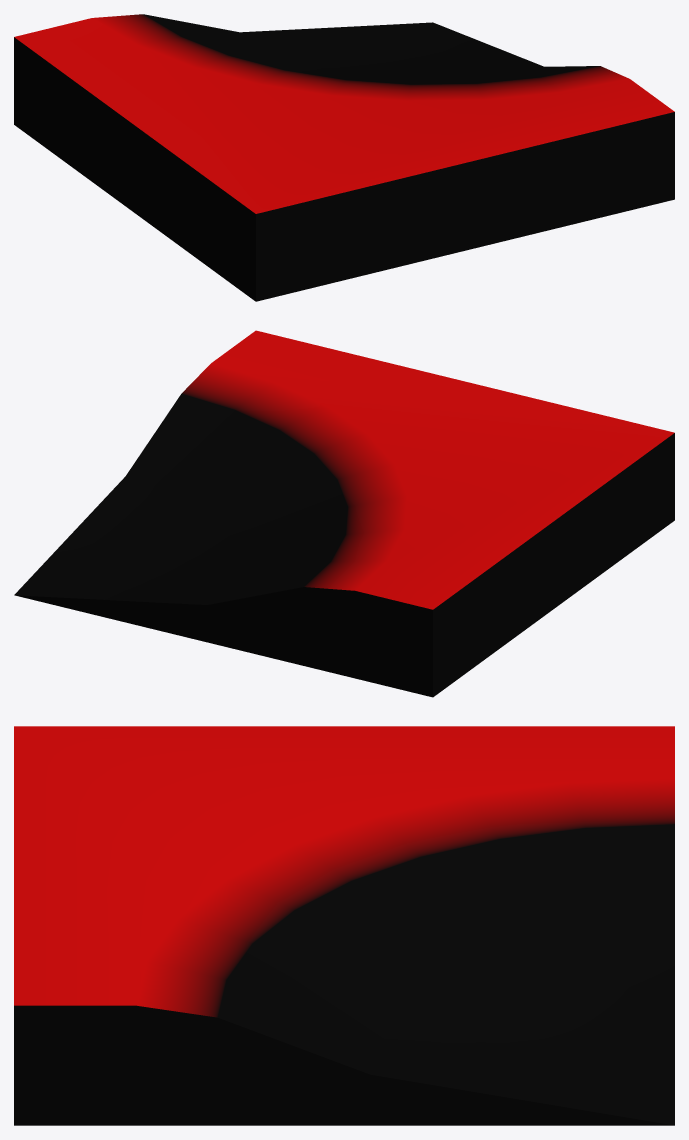
The model's file is PlatformDeclineCornerOut_90Deg.fbx.
The picture shows the model from 3 angles, top to bottom: view 1: azimuth 30°, elevation 25°; view 2: azimuth 150°, elevation 25°; view 3: azimuth 270°, elevation 25°; orthographic projection. The views are drawn at different scales.
Parts seen in each view (by area): view 1: PlatformDeclineCornerOut_90Deg; view 2: PlatformDeclineCornerOut_90Deg; view 3: PlatformDeclineCornerOut_90Deg.
Boxes of the visible parts, left/top/right/bottom form: PlatformDeclineCornerOut_90Deg: left=14, top=14, right=674, bottom=301; PlatformDeclineCornerOut_90Deg: left=14, top=330, right=674, bottom=697; PlatformDeclineCornerOut_90Deg: left=14, top=726, right=674, bottom=1125.
Size of the model in its own units: 5 by 1 by 5.
